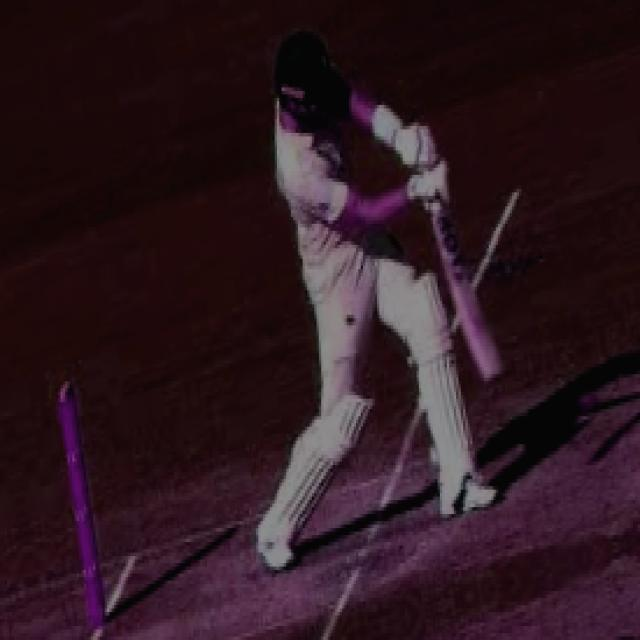bat: (419, 201, 515, 381)
toe: (485, 364, 510, 378)
